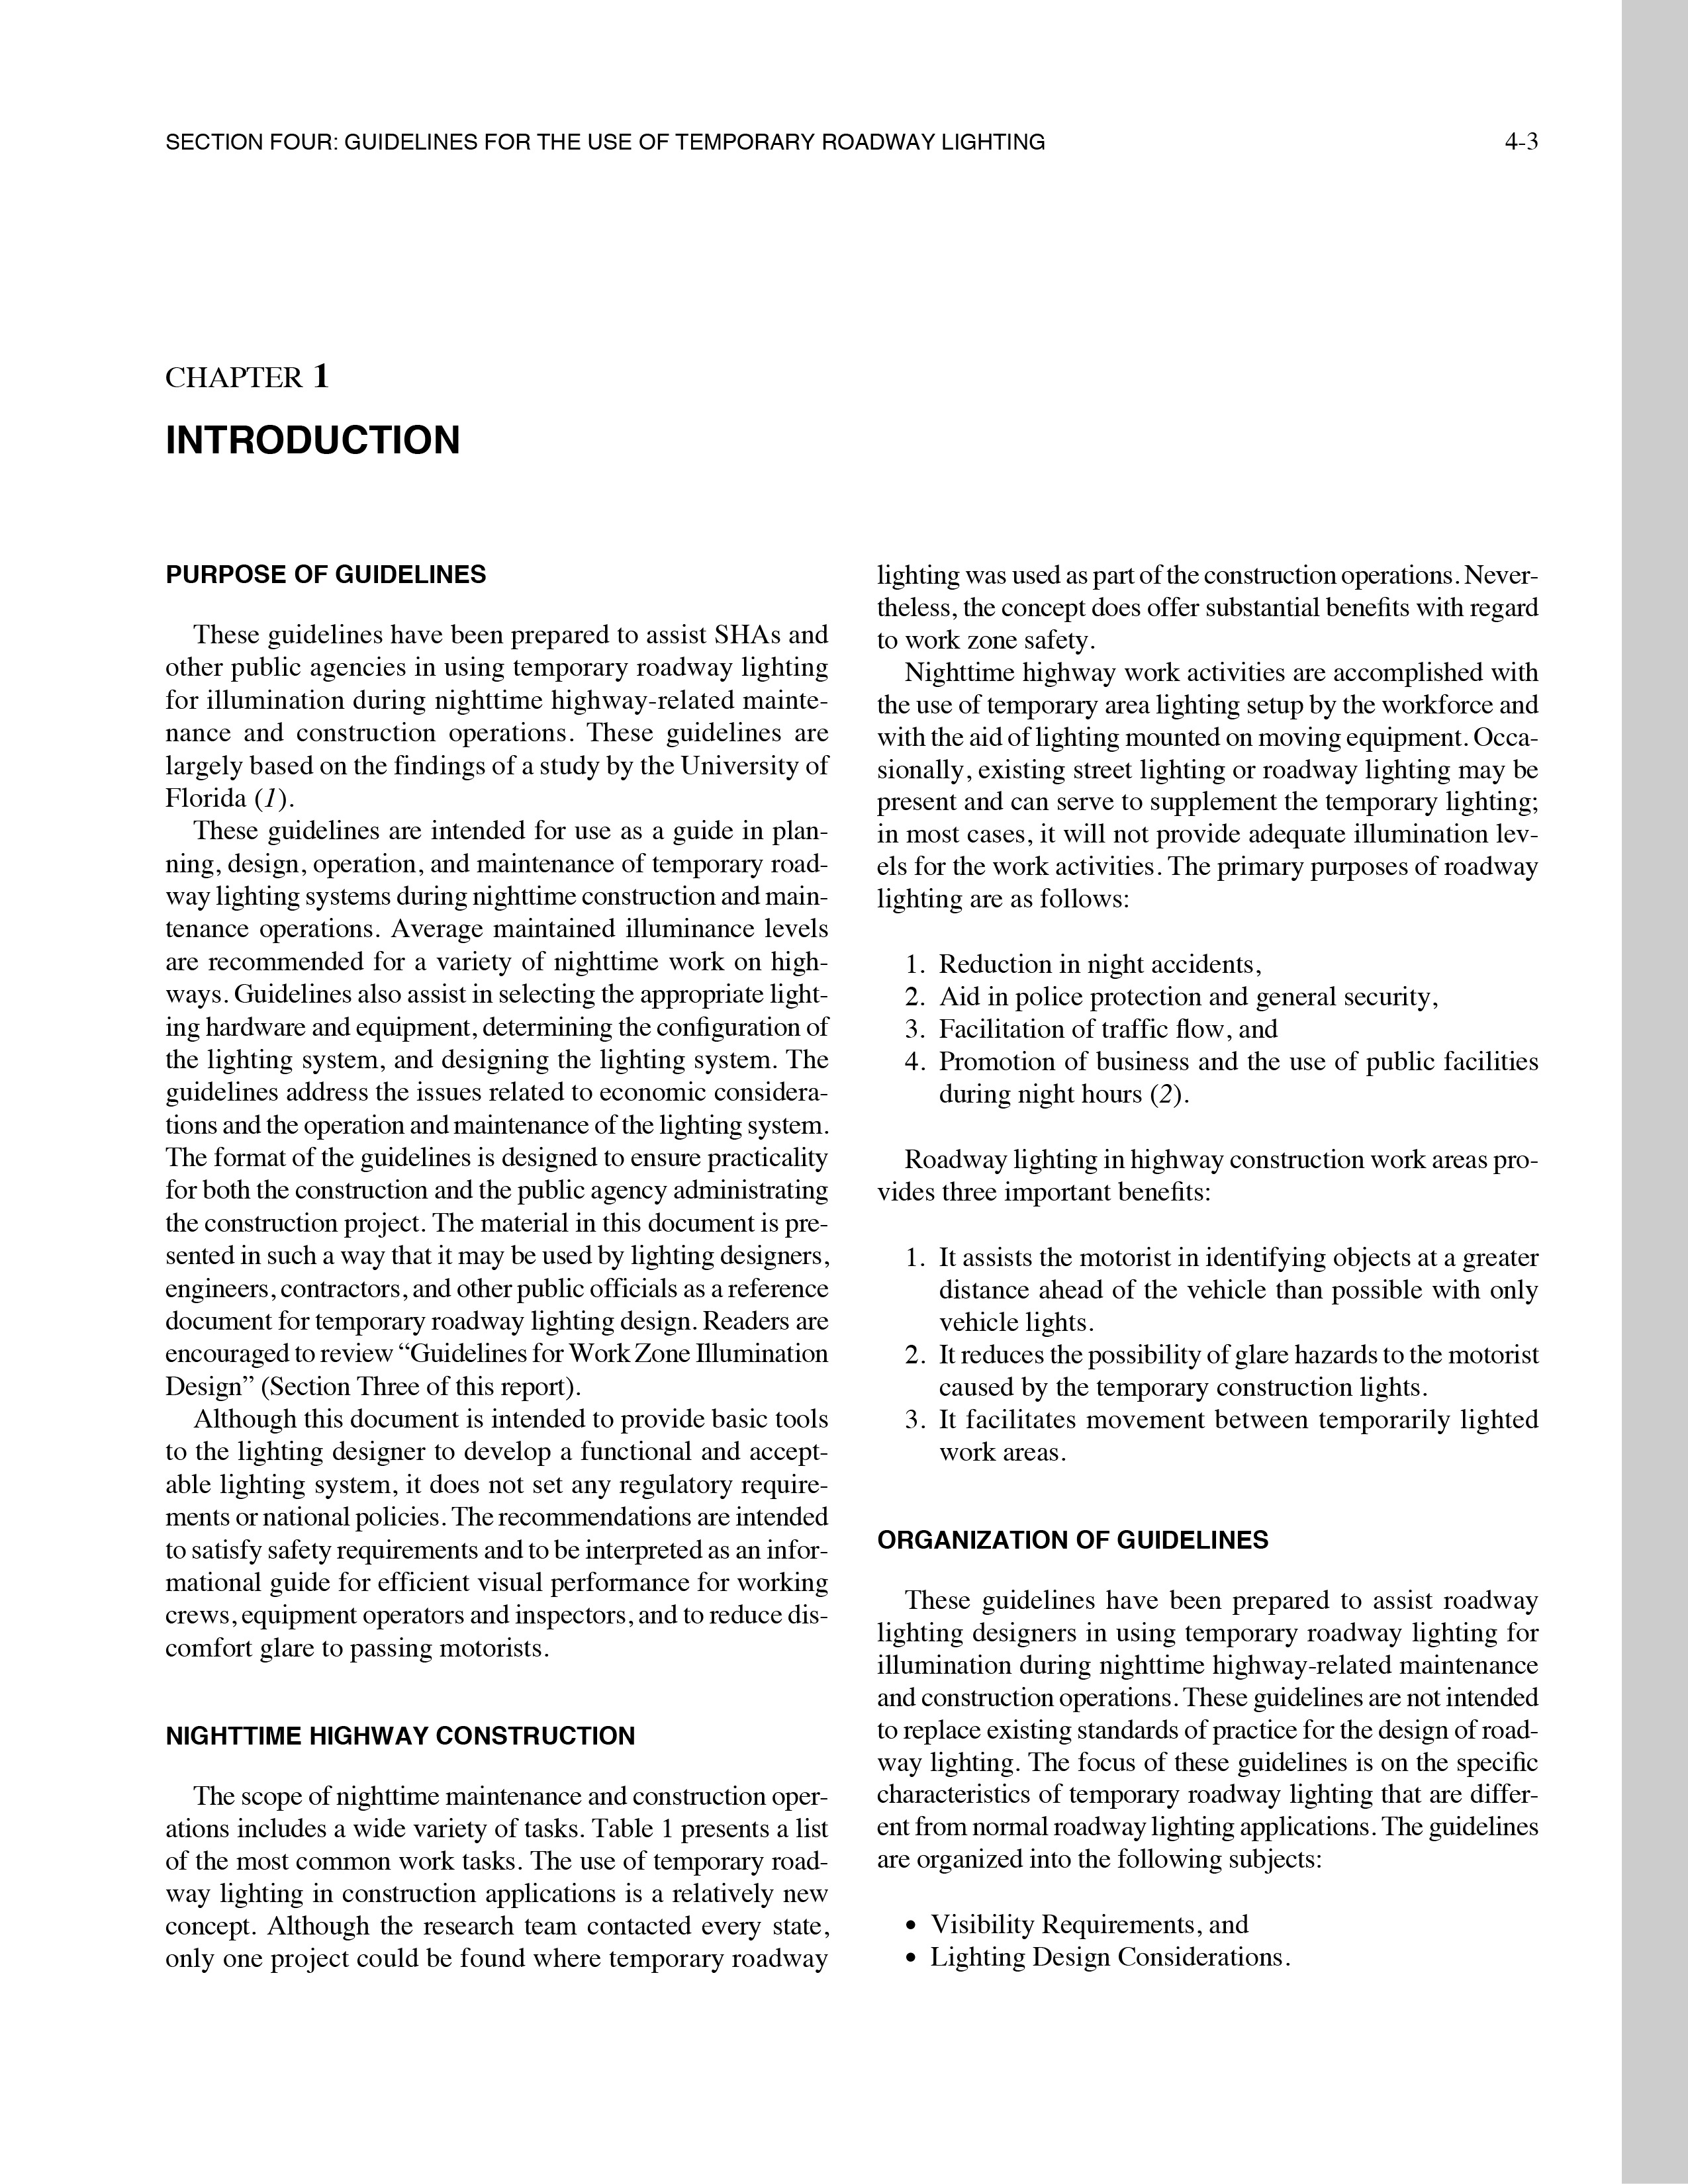list: (892, 1232, 1566, 1477), (903, 948, 1527, 1120), (888, 1909, 1325, 1975)
section: (156, 1709, 645, 1759), (872, 1510, 1309, 1565), (152, 539, 516, 601), (160, 417, 475, 475), (156, 340, 356, 413)
text: (156, 833, 826, 1400), (869, 1588, 1550, 1874), (876, 645, 1550, 918), (161, 1408, 837, 1675), (152, 1775, 830, 1993), (152, 615, 846, 815), (862, 555, 1537, 645), (862, 1136, 1543, 1205)
